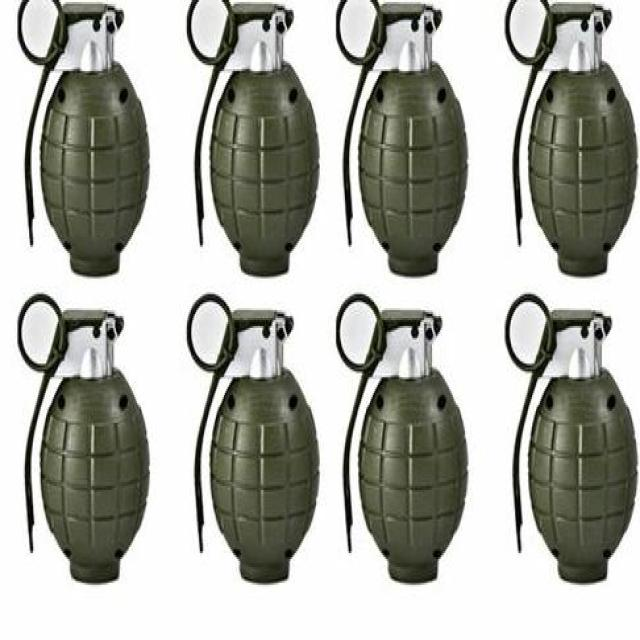grenade: (188, 295, 321, 590), (18, 295, 151, 590), (506, 295, 639, 588), (338, 295, 470, 588), (186, 1, 322, 283), (504, 1, 639, 283), (18, 1, 152, 283), (338, 1, 471, 285)
